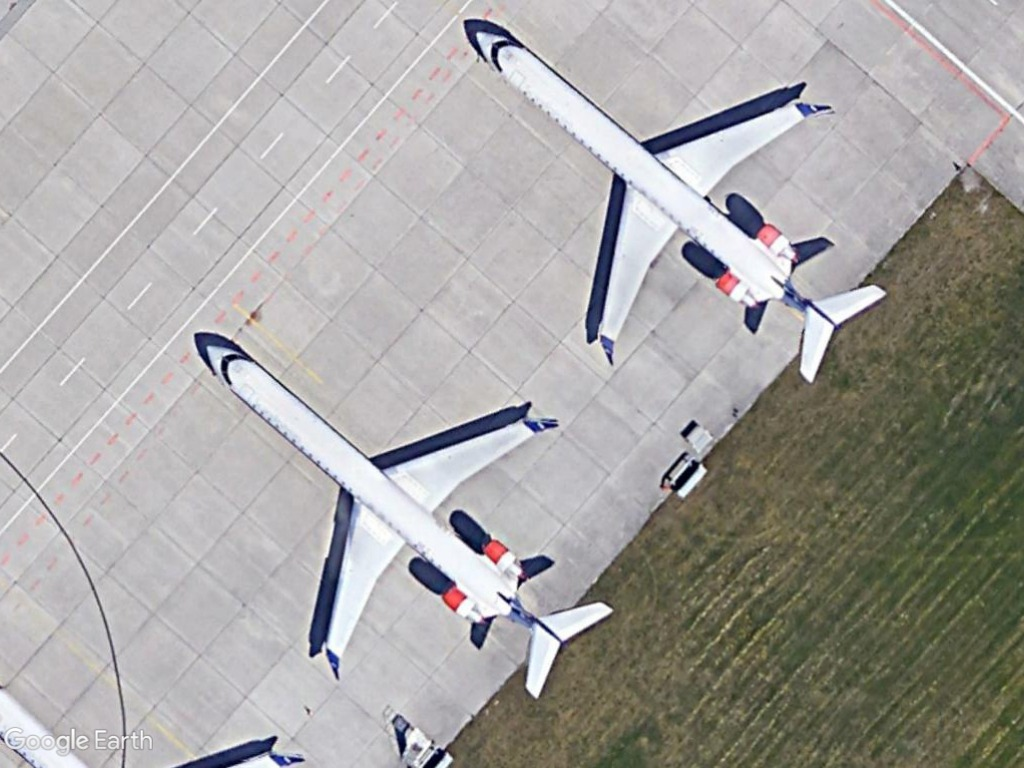chartered: (192, 338, 620, 707), (467, 24, 893, 391)
